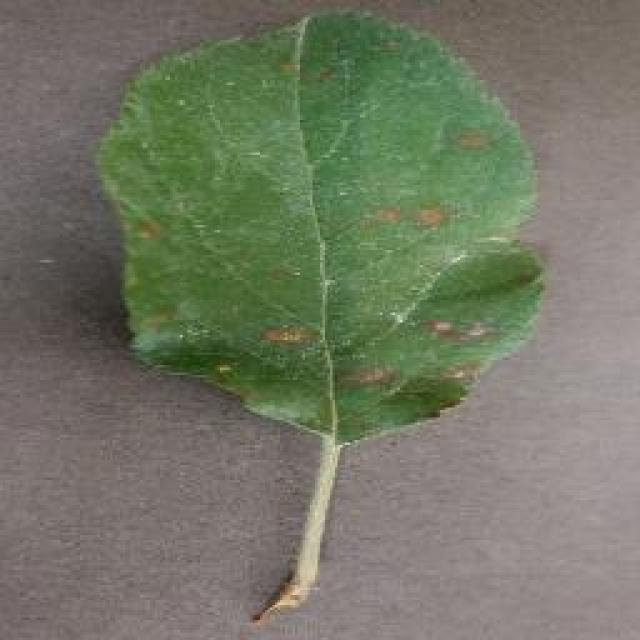Apple___Cedar_apple_rust: (93, 5, 536, 434)
